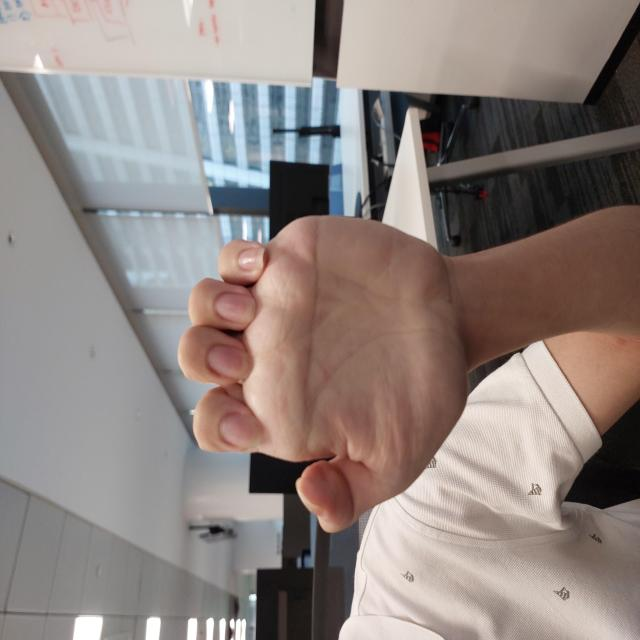E: (106, 174, 424, 472)
